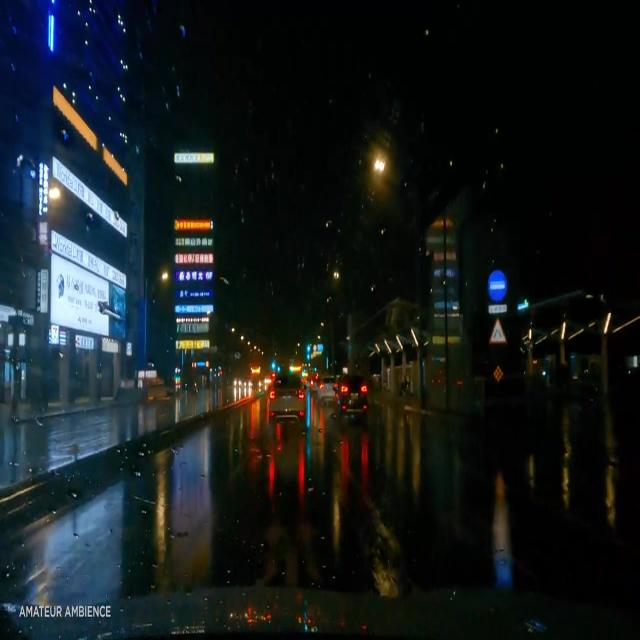Car: (267, 369, 307, 423), (333, 370, 366, 415), (315, 375, 336, 405)
